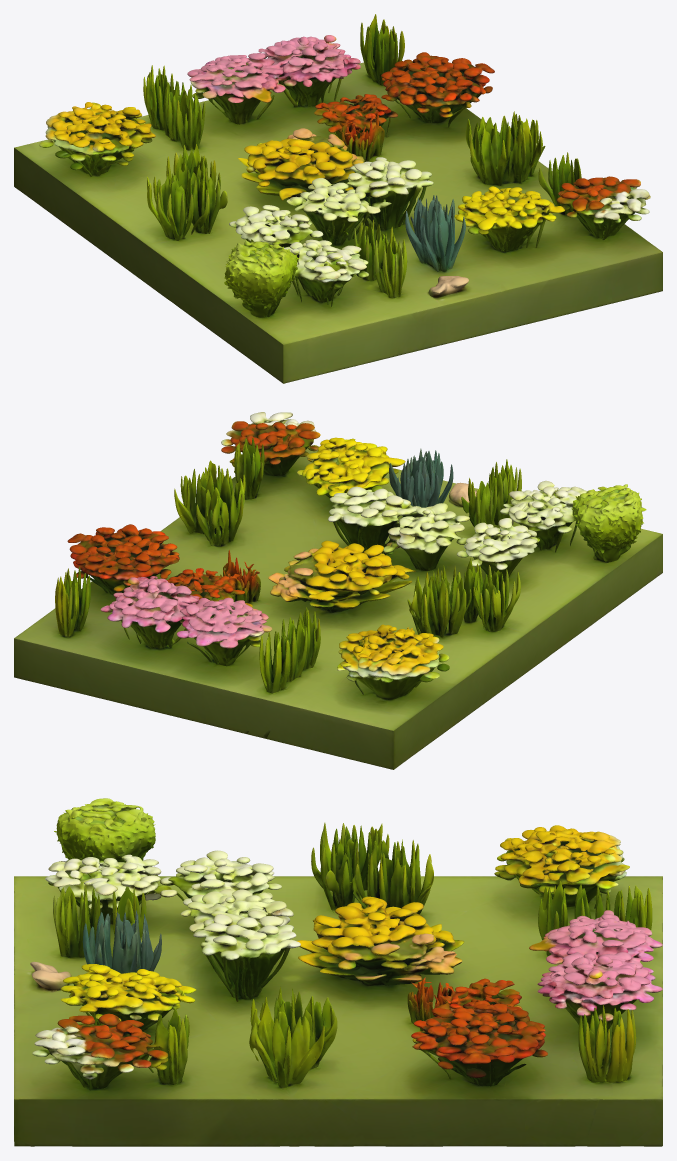
The model's file is fieldT.glb.
3 renders of one model, top to bottom at view 1: azimuth 30°, elevation 25°; view 2: azimuth 150°, elevation 25°; view 3: azimuth 270°, elevation 25°, orthographic. The views are drawn at different scales.
Visible parts, largest first — view 1: model; view 2: model; view 3: model.
Boxes of the visible parts, box(x1,y1,x2,y2) form: model: box(14, 14, 662, 383); model: box(14, 412, 662, 769); model: box(14, 798, 662, 1146).
Size of the model in its own units: 1.65 by 0.3948 by 1.84.
Materials: 1 (1 with a texture image).
